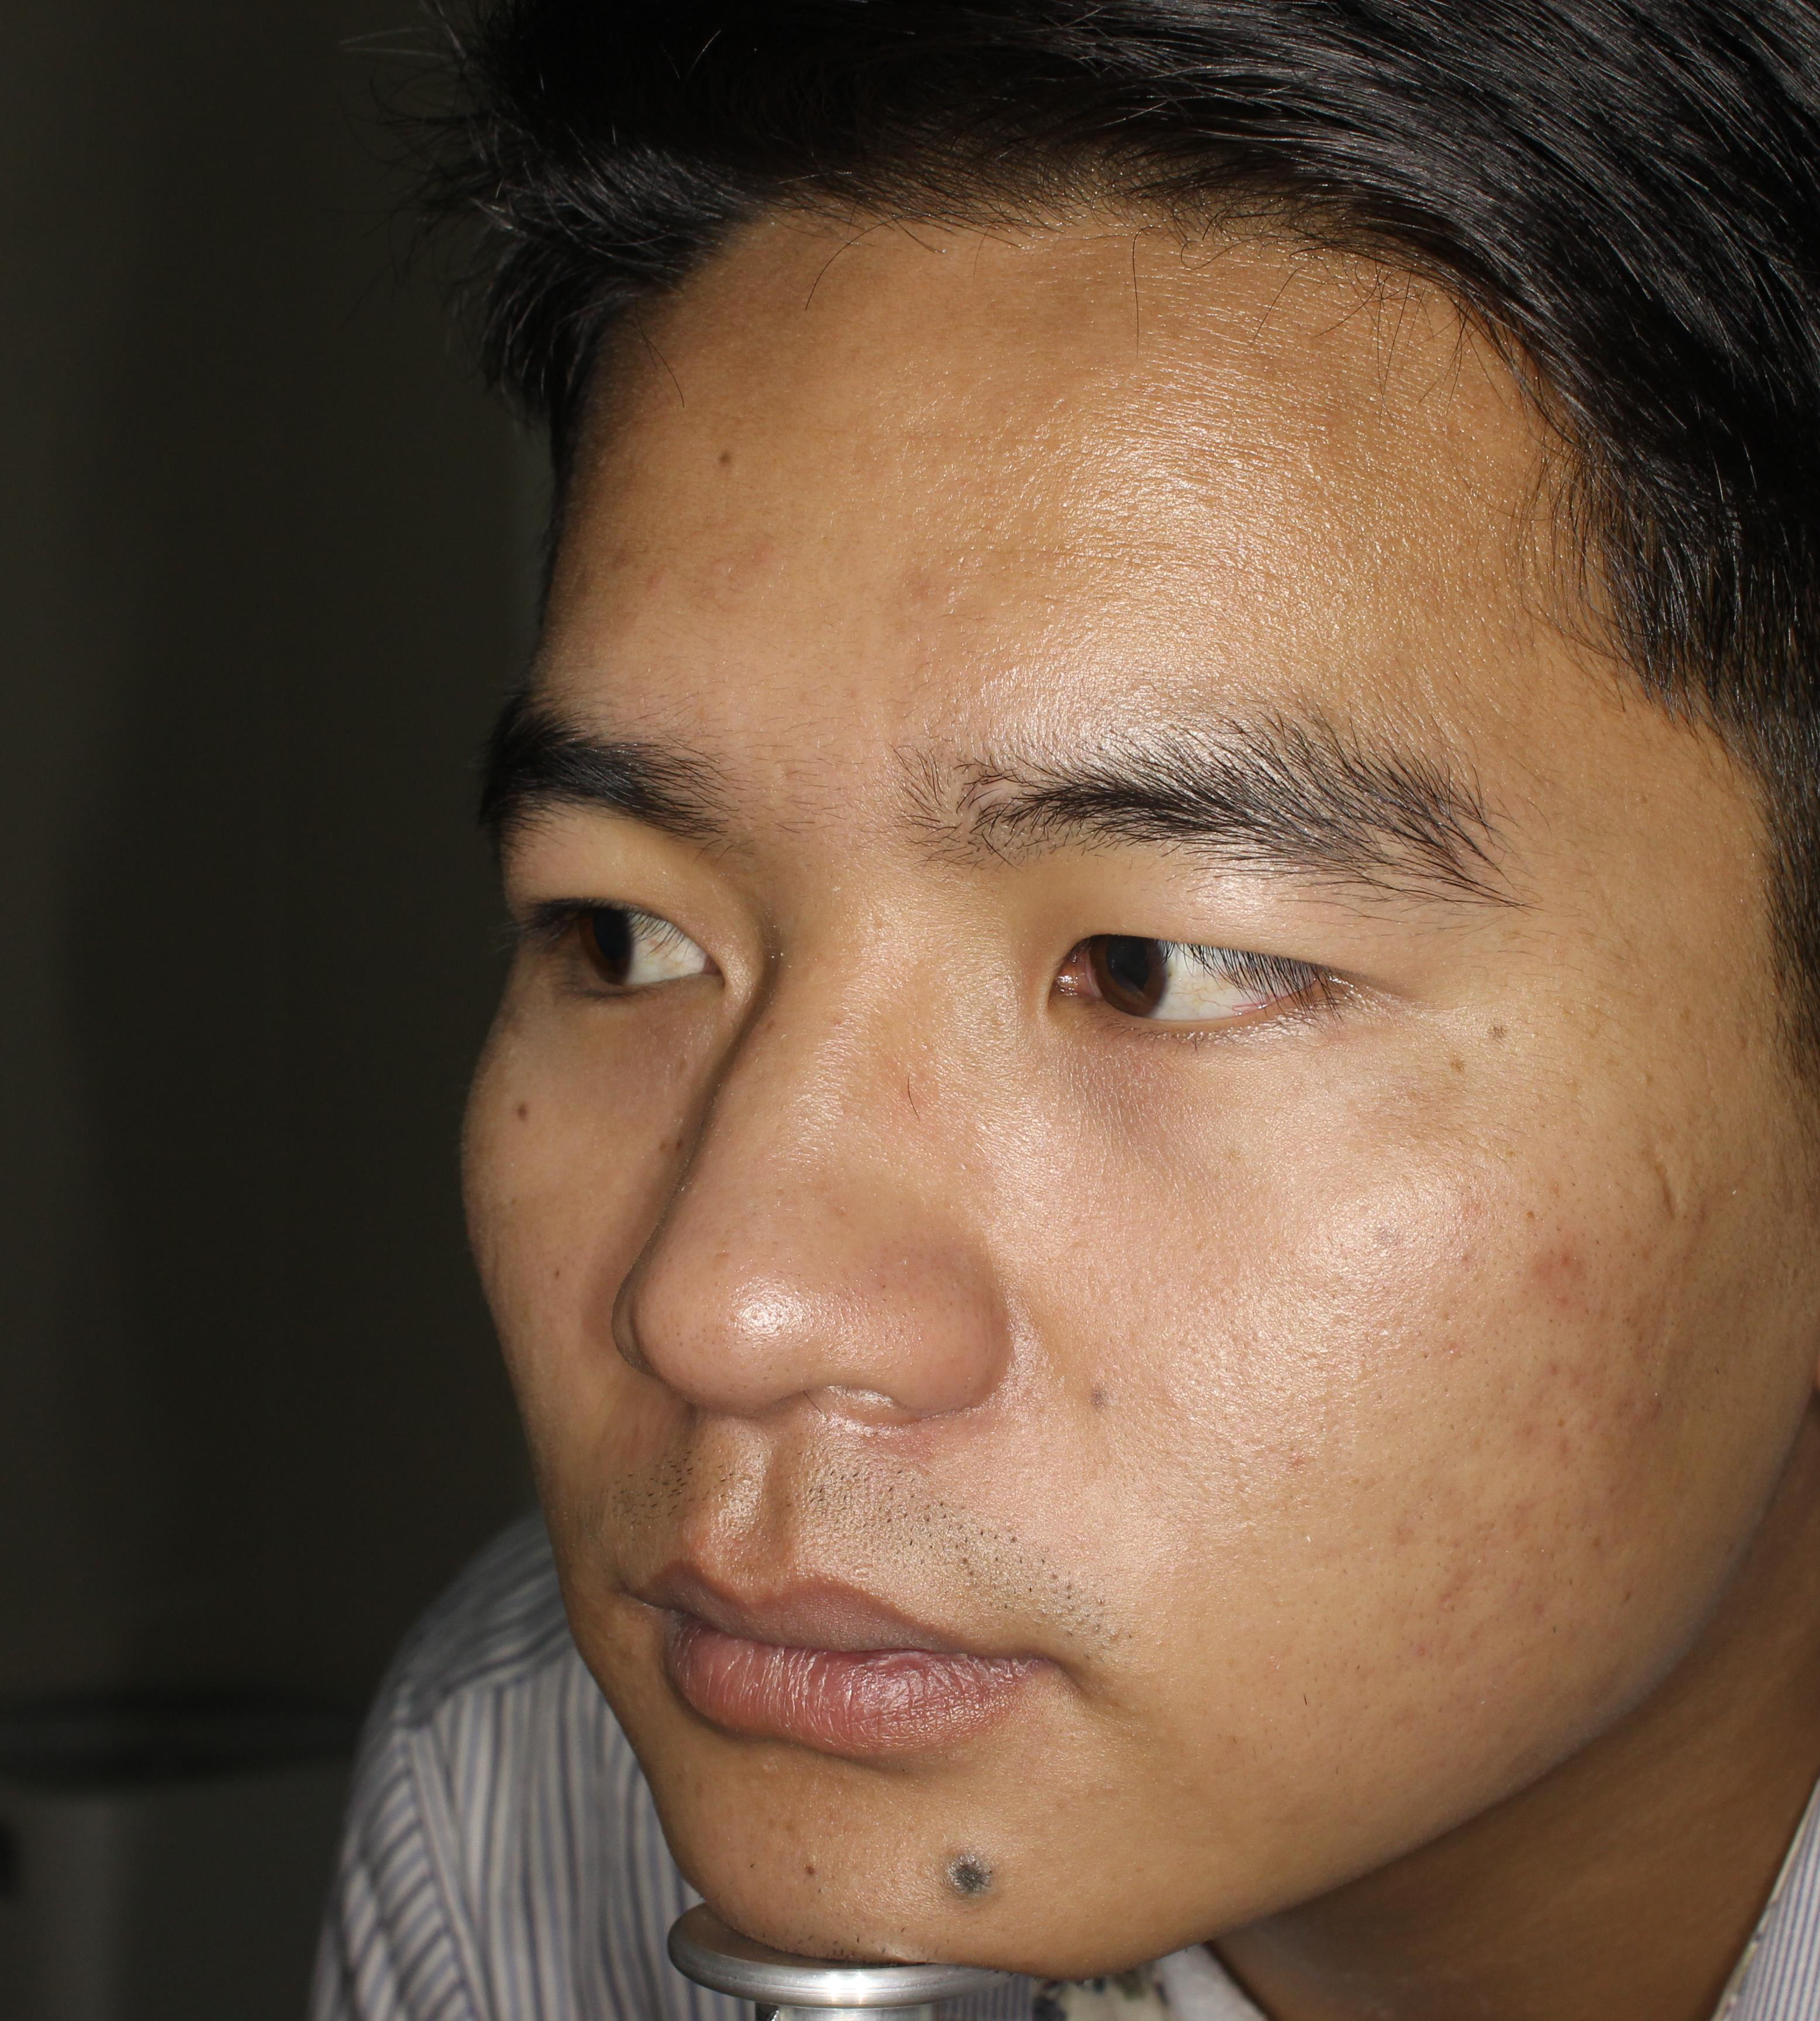fore: (1502, 1231, 1618, 1329)
